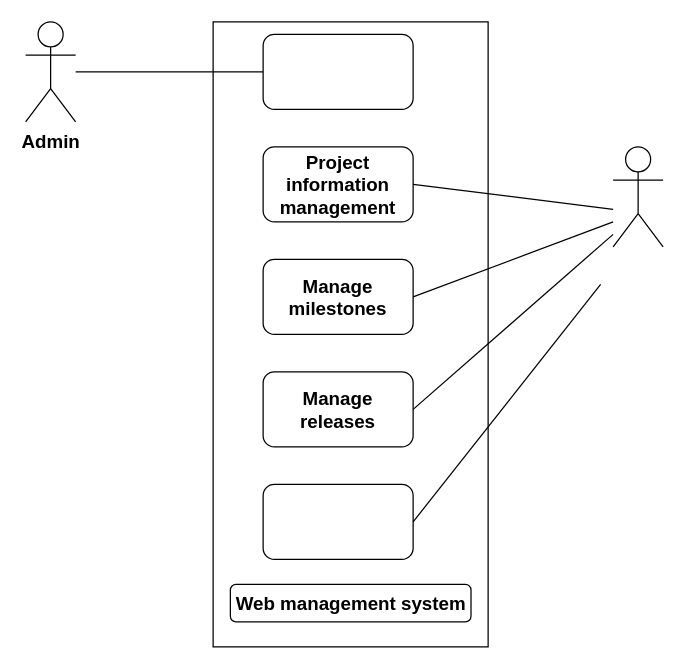
Some shapes in this 699 by 669 pixel diagram are drawn without their labels. Here are the shapes that lost their labels. From the top down, the box of each, then its label:
(262, 33, 413, 109): Project departmental group
(612, 146, 663, 247): Manager
(262, 483, 413, 559): Manage issues
